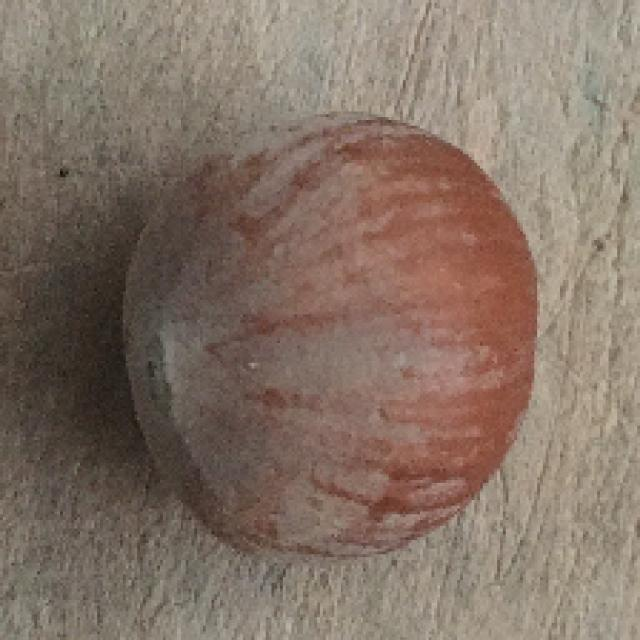qualityHazelnut: (116, 123, 544, 562)
